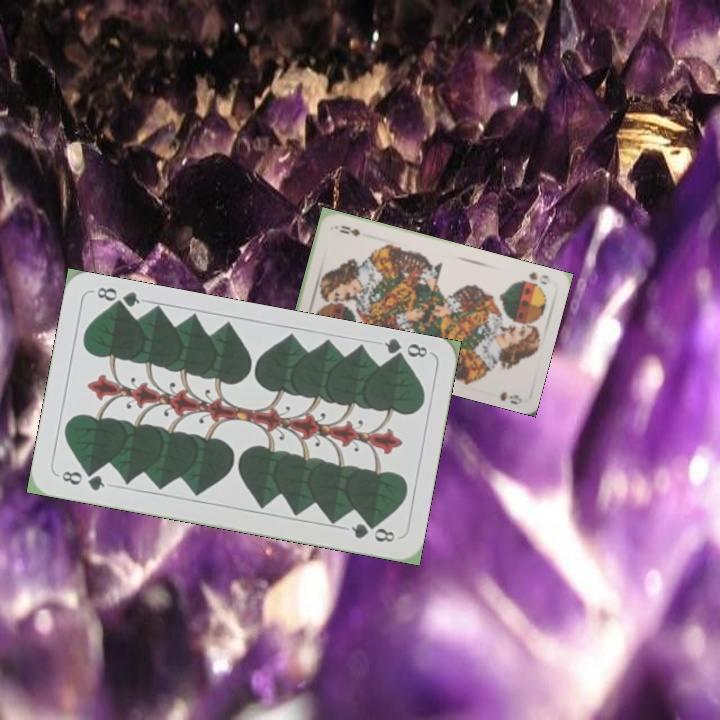G8: (380, 335, 430, 366), (57, 467, 108, 494)
SO: (525, 268, 551, 287)
